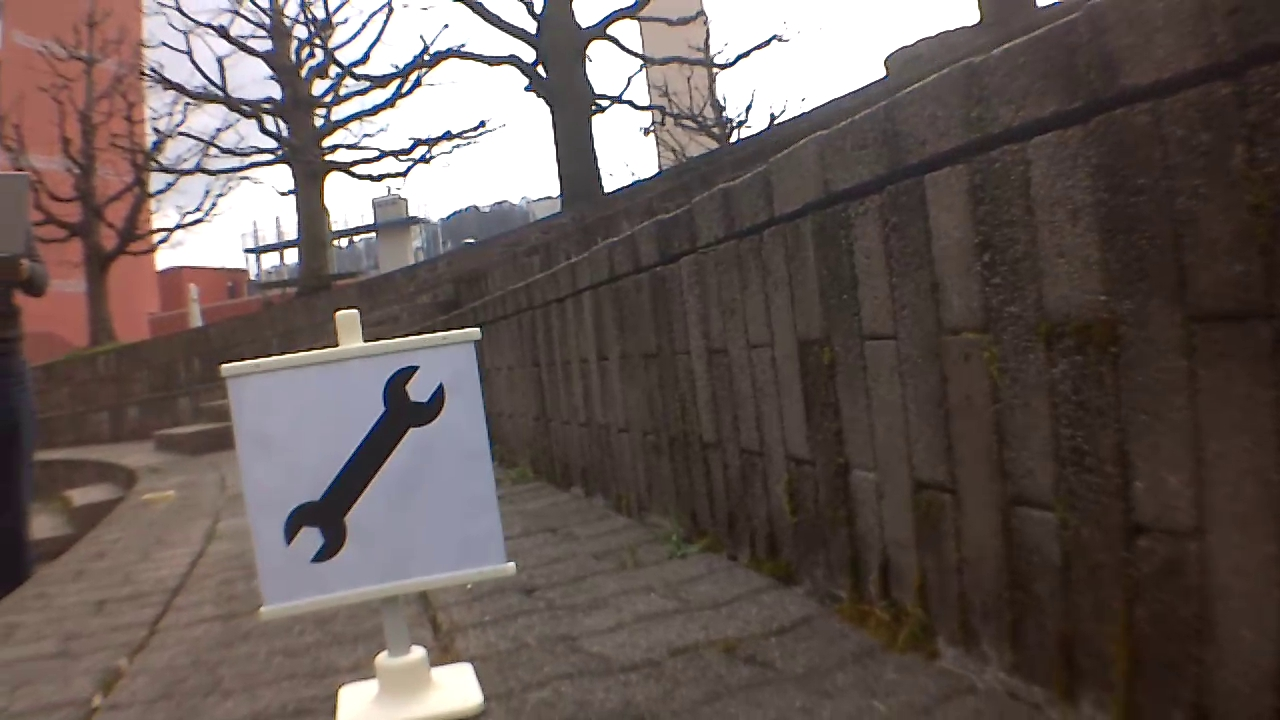wrench: (280, 364, 450, 565)
